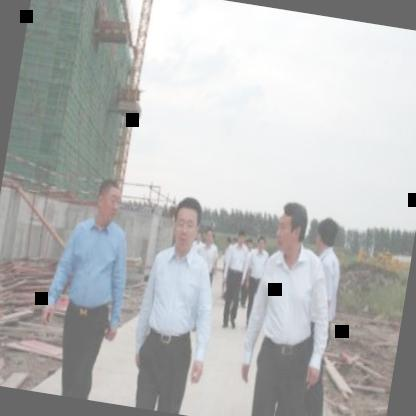head: (271, 197, 311, 259), (167, 192, 206, 254), (88, 171, 128, 227), (310, 214, 343, 260), (203, 224, 219, 245), (234, 226, 249, 248), (256, 232, 268, 254)
